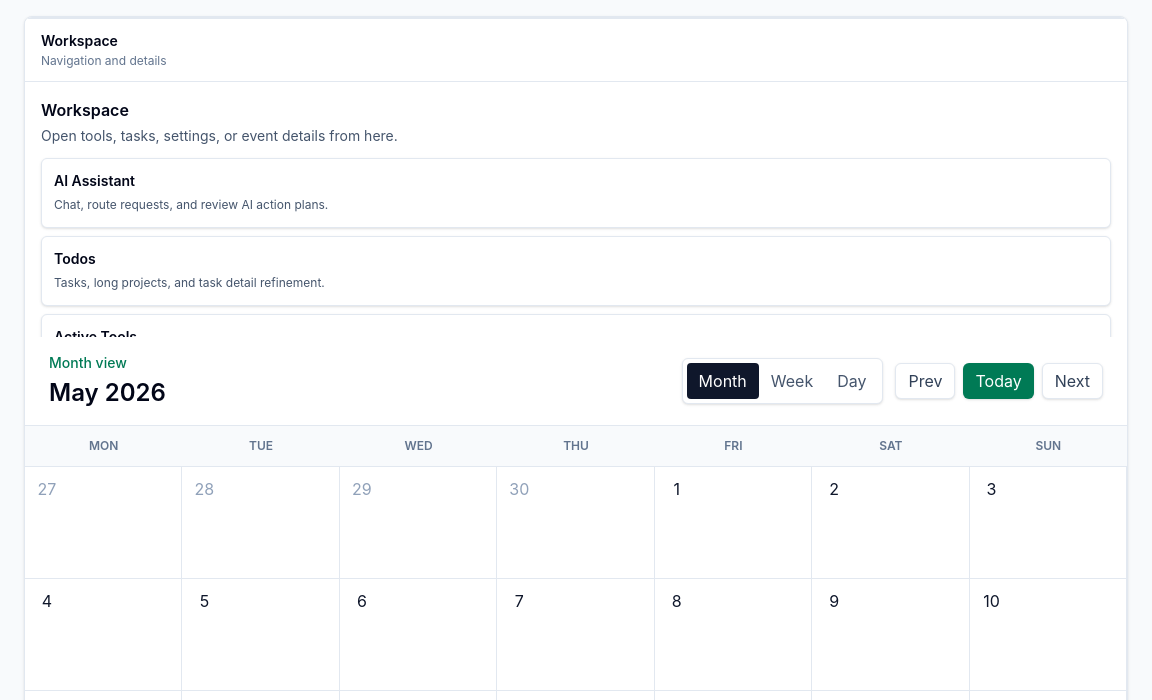
it: Calendar views › switches between month, week, and day views
The width and height of the screenshot is (1152, 700).
Click the tab "Week" at [792, 381], box x1=759 y1=363 x2=825 y2=399
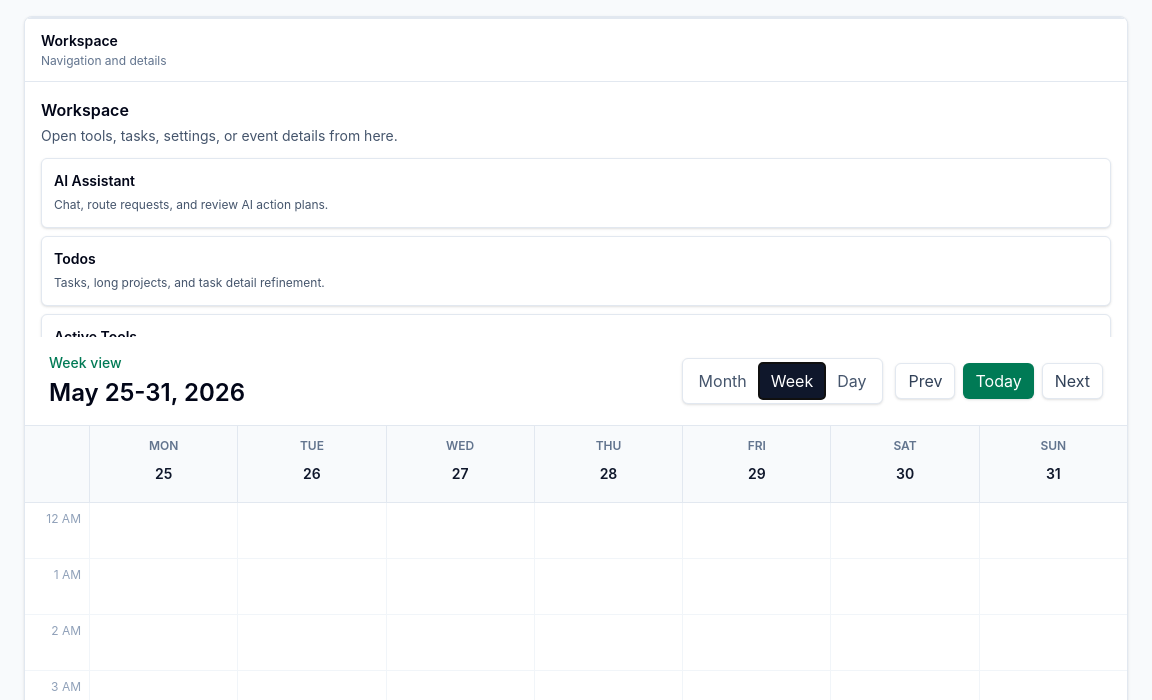
Expected: the heading "May 25-31, 2026" is shown, x1=49 y1=377 x2=245 y2=409
Click the tab "Day" at [852, 381], box x1=825 y1=363 x2=878 y2=399
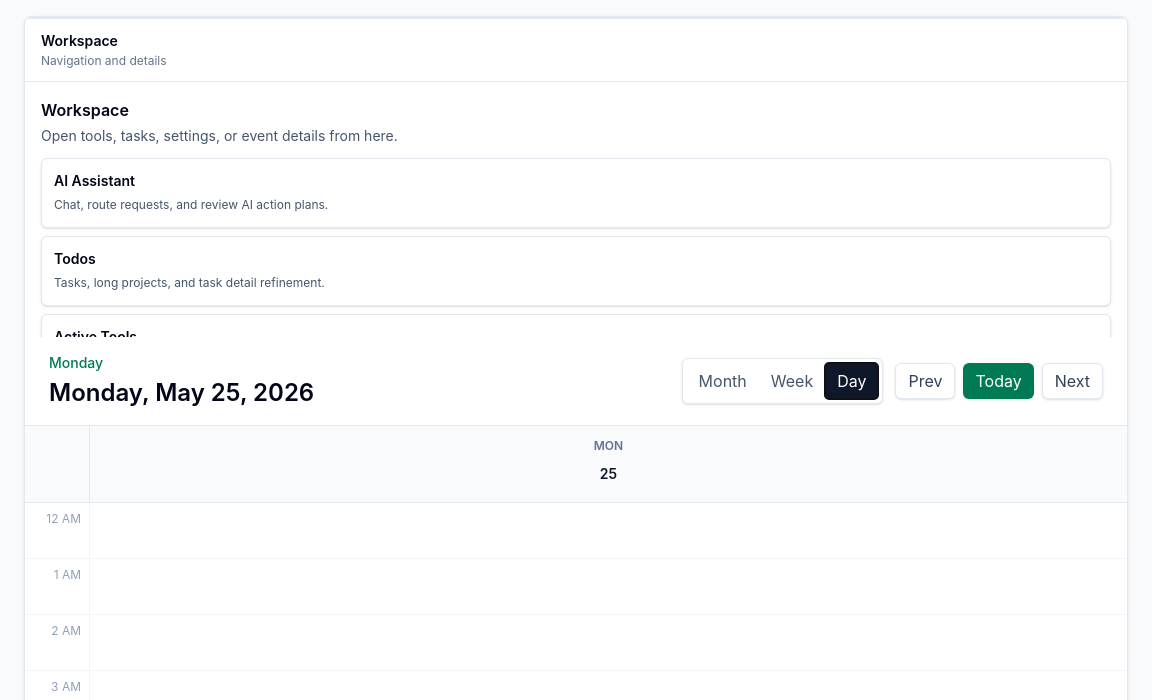
Expected: the heading "Monday, May 25, 2026" is shown, x1=49 y1=377 x2=314 y2=409
